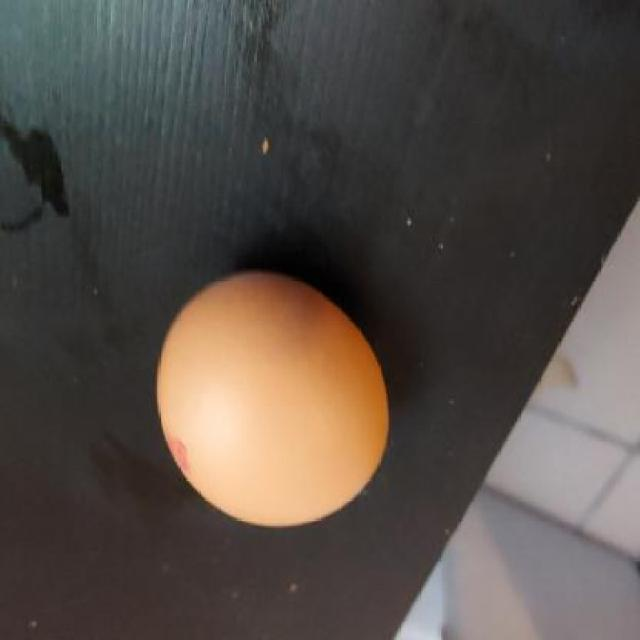biodegradable: (159, 273, 392, 529)
